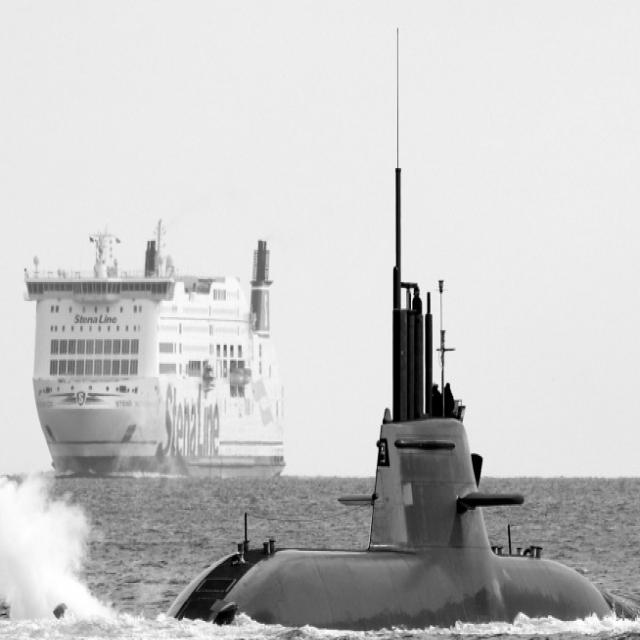submarine: (53, 33, 640, 635)
